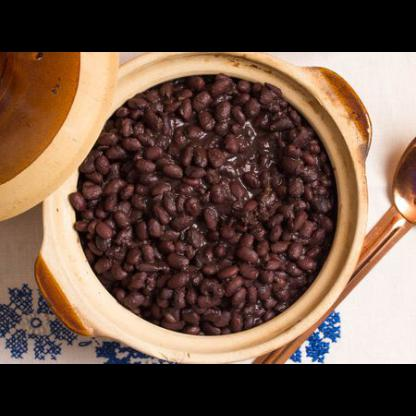black beans: (70, 72, 334, 334)
